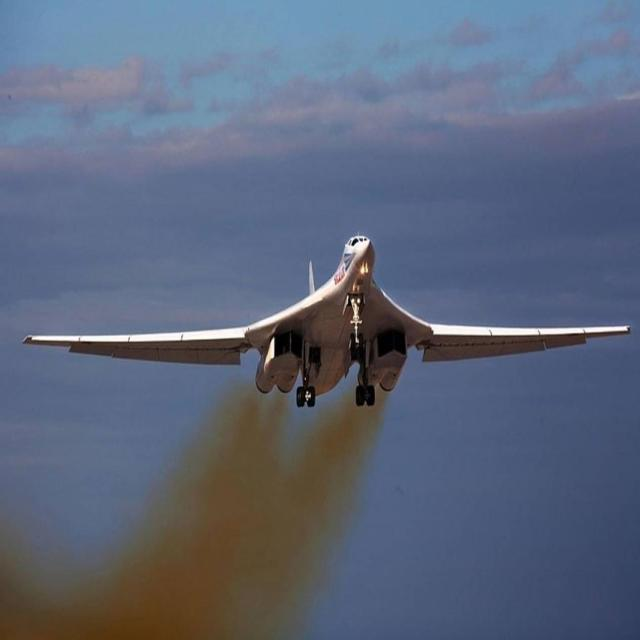Tu160: (7, 209, 640, 451)
